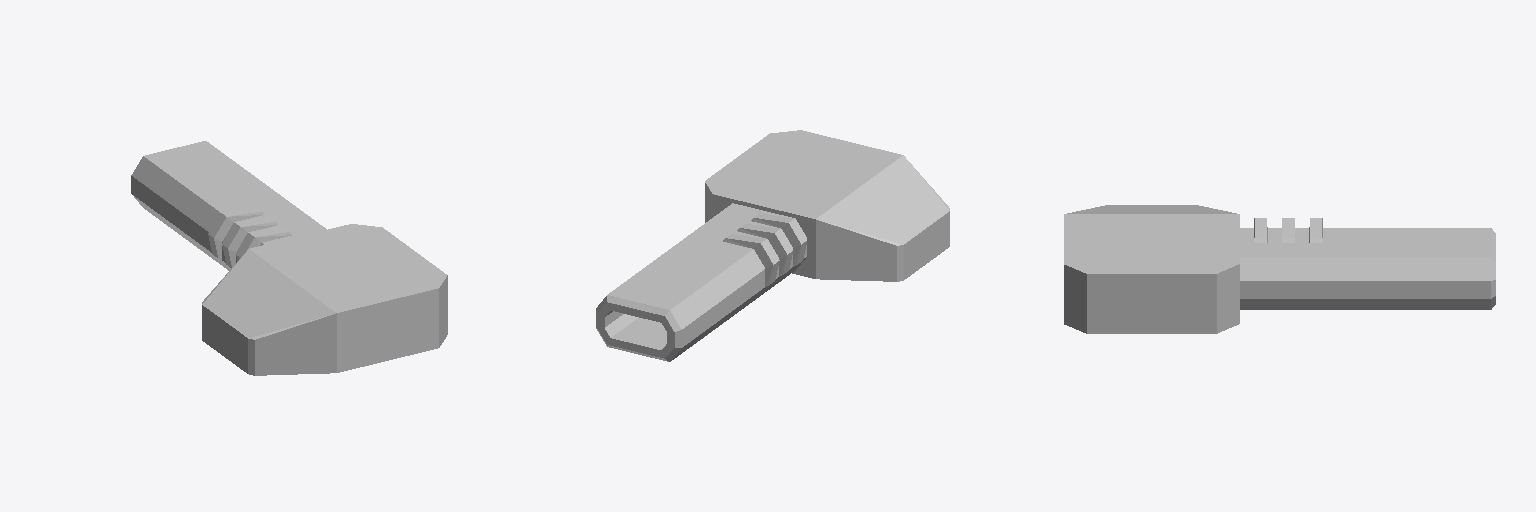
File: Gun.obj
The picture shows the model from 3 angles: view 1: azimuth 30°, elevation 25°; view 2: azimuth 150°, elevation 25°; view 3: azimuth 270°, elevation 25°; orthographic projection.
Visible parts, largest first — view 1: Gun; view 2: Gun; view 3: Gun.
Part boxes in pixels (x1,y1,x2,y2): Gun: (131, 141, 447, 375); Gun: (596, 130, 949, 361); Gun: (1064, 205, 1495, 333).
Bounding box in the file's own units: 12.3 × 3.9 × 24.25.